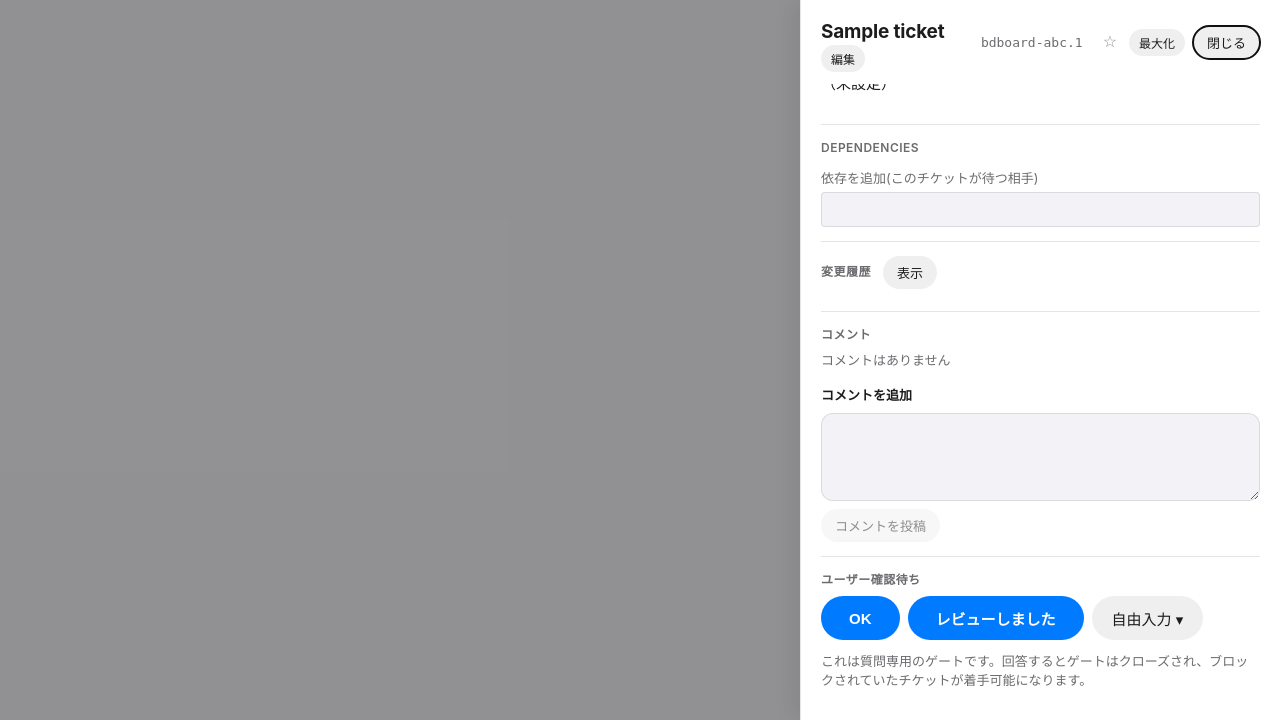
TicketDetailPanel pending decisions › shows gate outcome message when the decision closes a gate
(page scrolled)
Click the button "自由入力 ▾": (1147, 618) [1092,596,1203,640]
(page scrolled)
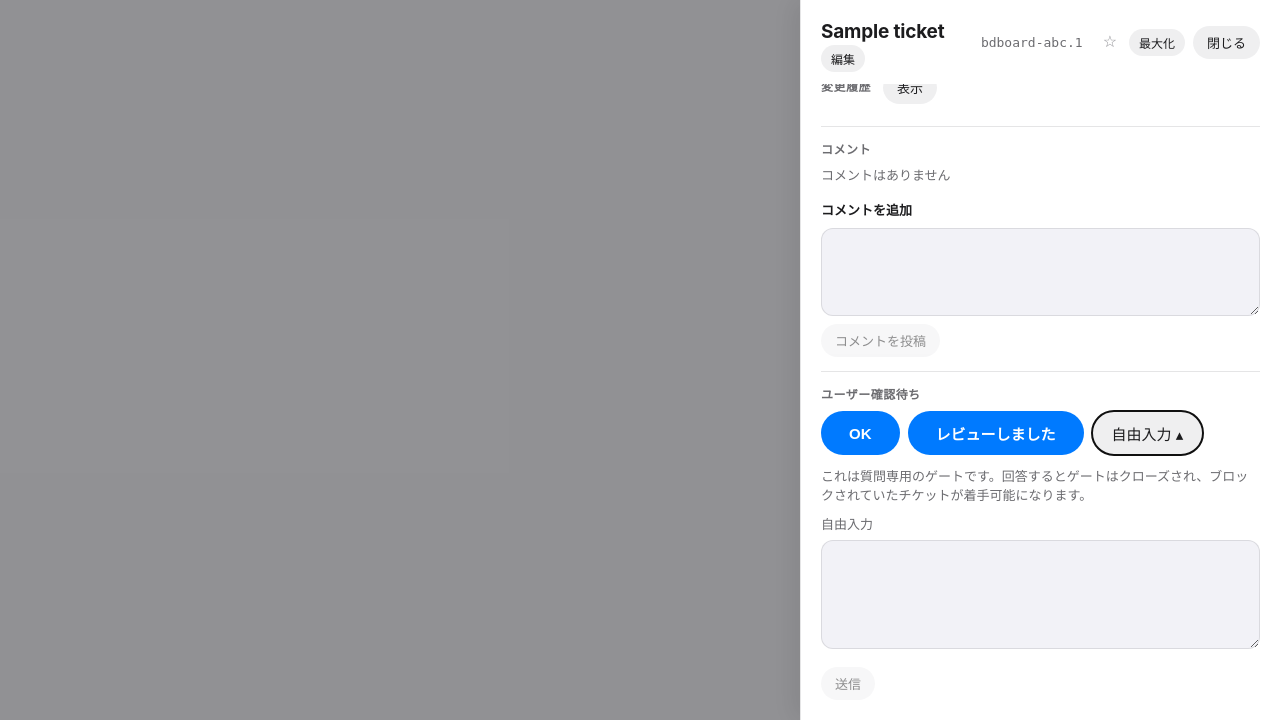
In the text box labelled "自由入力": (1040, 594) [821,540,1260,649], type "ゲート回答"
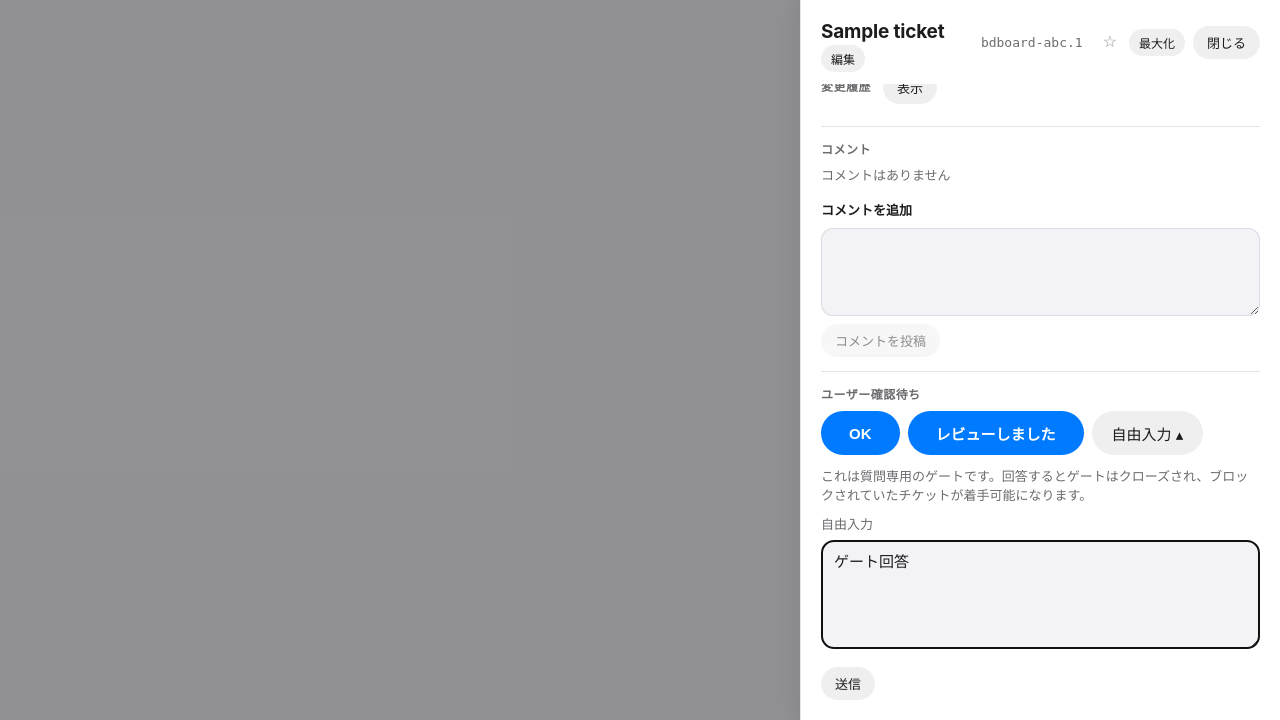
Click the button "送信": (848, 684) [821,667,875,700]
(page scrolled)
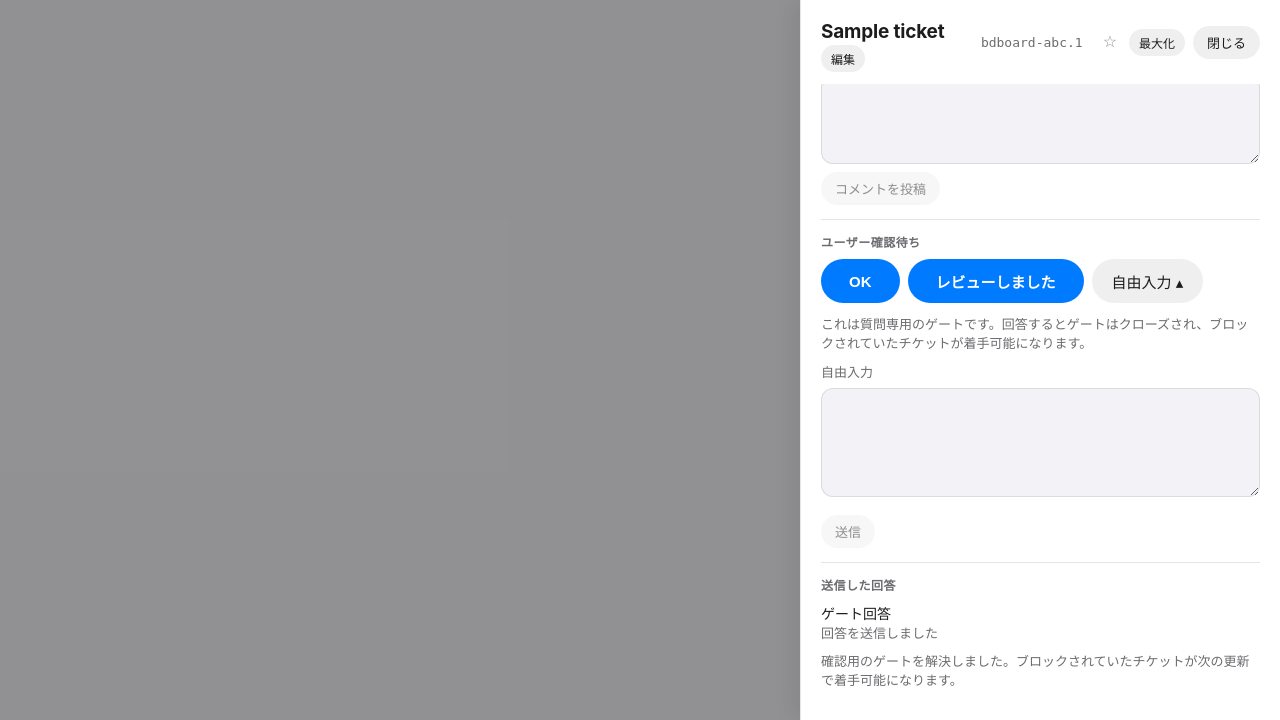
Check: the text "確認用のゲートを解決しました。ブロックされていたチケットが次の更新で着手可能になります。" is shown, box [821,652,1260,690]
